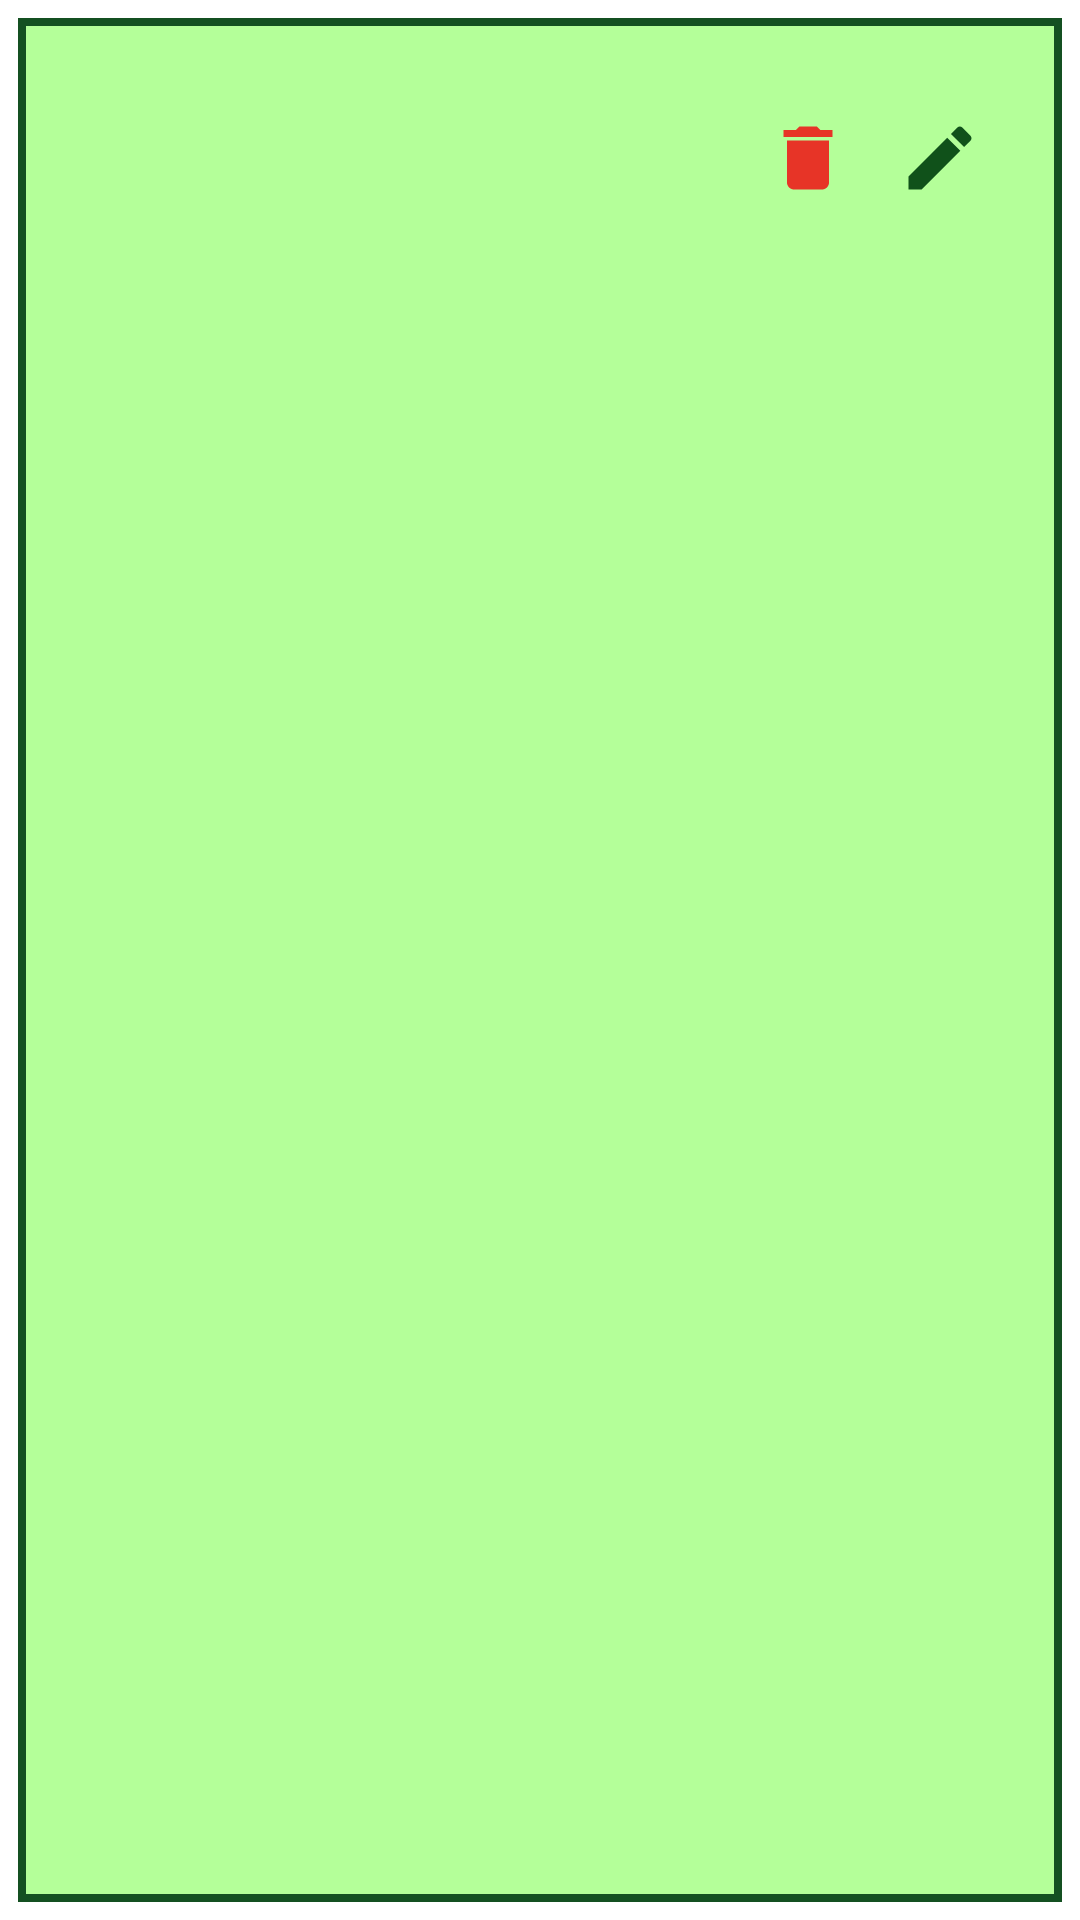

Screen size 1080*1920. Icon name, then its box in pixels as (x1,y1,x2,y2):
create: (908,126,972,190)
delete: (783,126,833,190)
